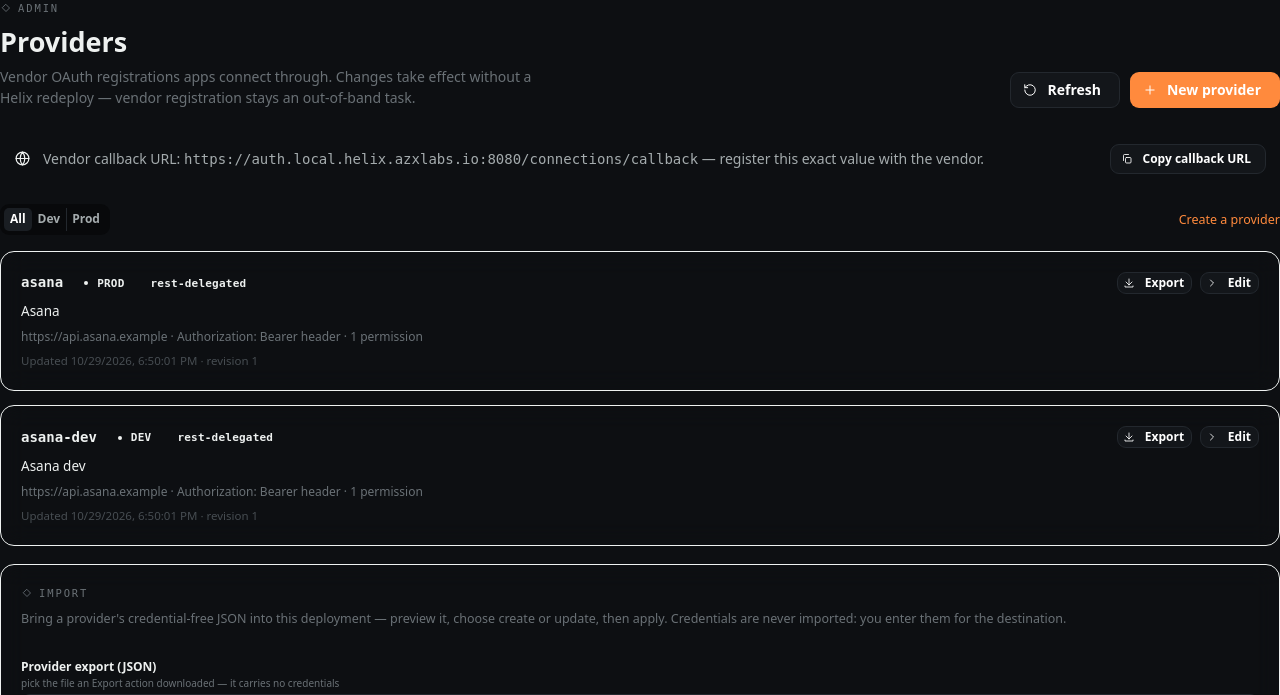
Test: ProvidersPage list › filters by environment with the All/Dev/Prod control
expect the text "asana" is shown: met, box [21,272,63,294]
expect the text "asana-dev" is shown: met, box [21,427,97,449]
Click the radio button labelled "Dev" at (49, 218), box [38,210,60,227]
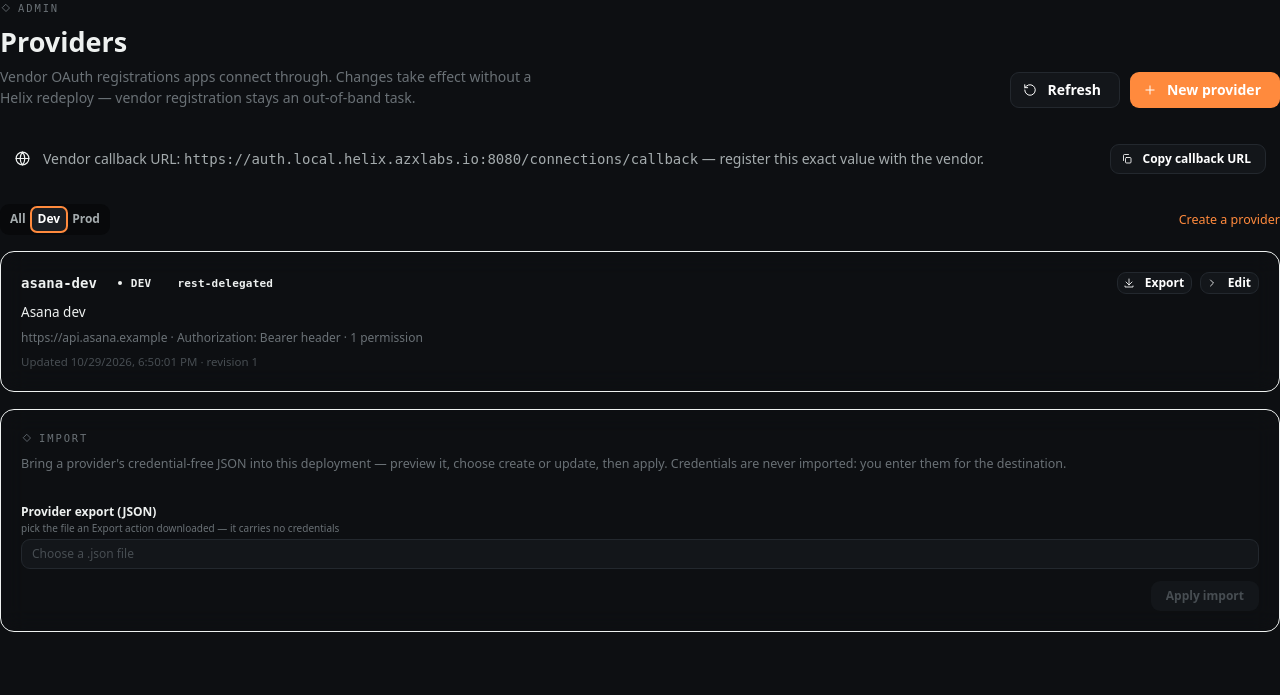
expect the text "asana-dev" is shown: met, box [21,272,97,294]
Click the radio button labelled "Prod" at (86, 218), box [72,210,100,227]
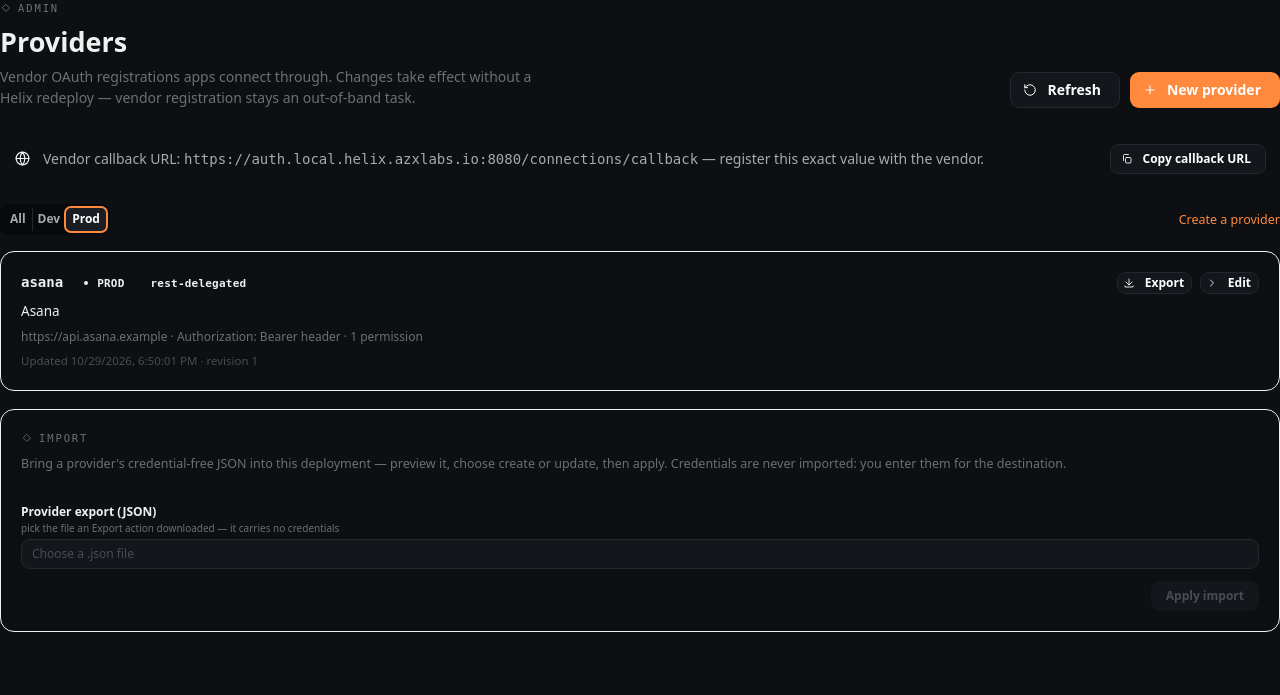
expect the text "asana" is shown: met, box [21,272,63,294]
expect the text "asana-dev" is gone: met
Click the radio button labelled "All" at (18, 218), box [10,210,26,227]
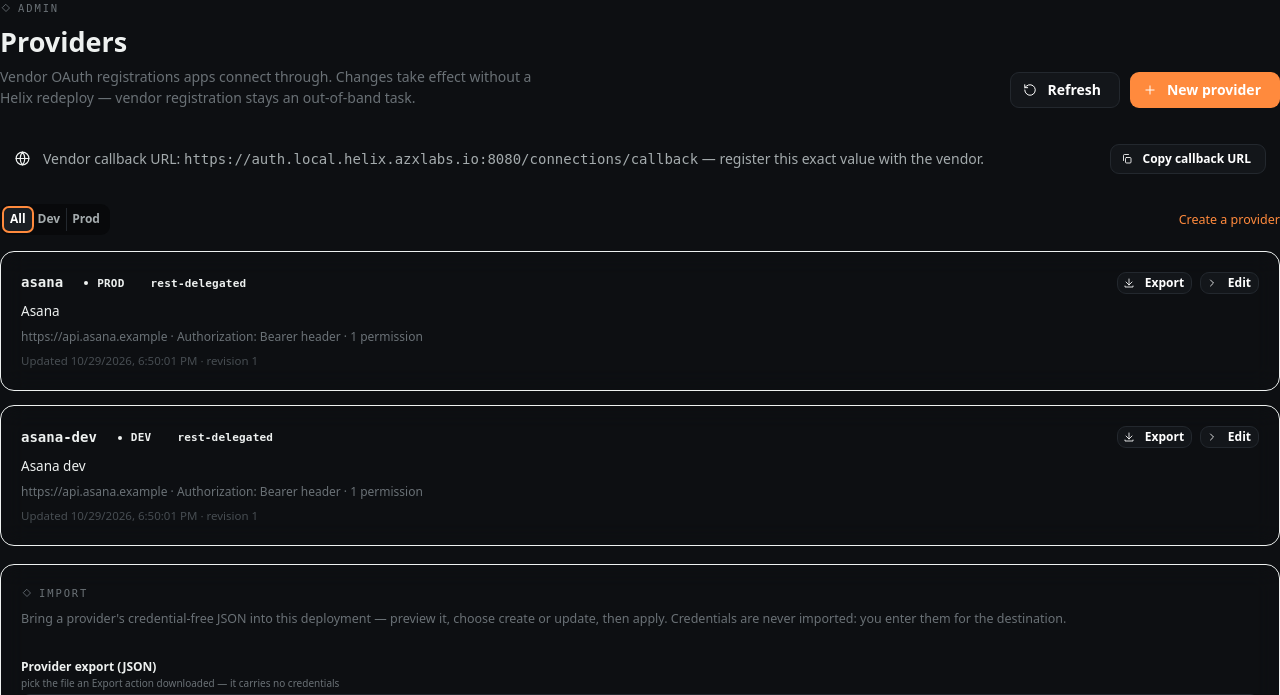
expect the text "asana" is shown: met, box [21,272,63,294]
expect the text "asana-dev" is shown: met, box [21,427,97,449]
